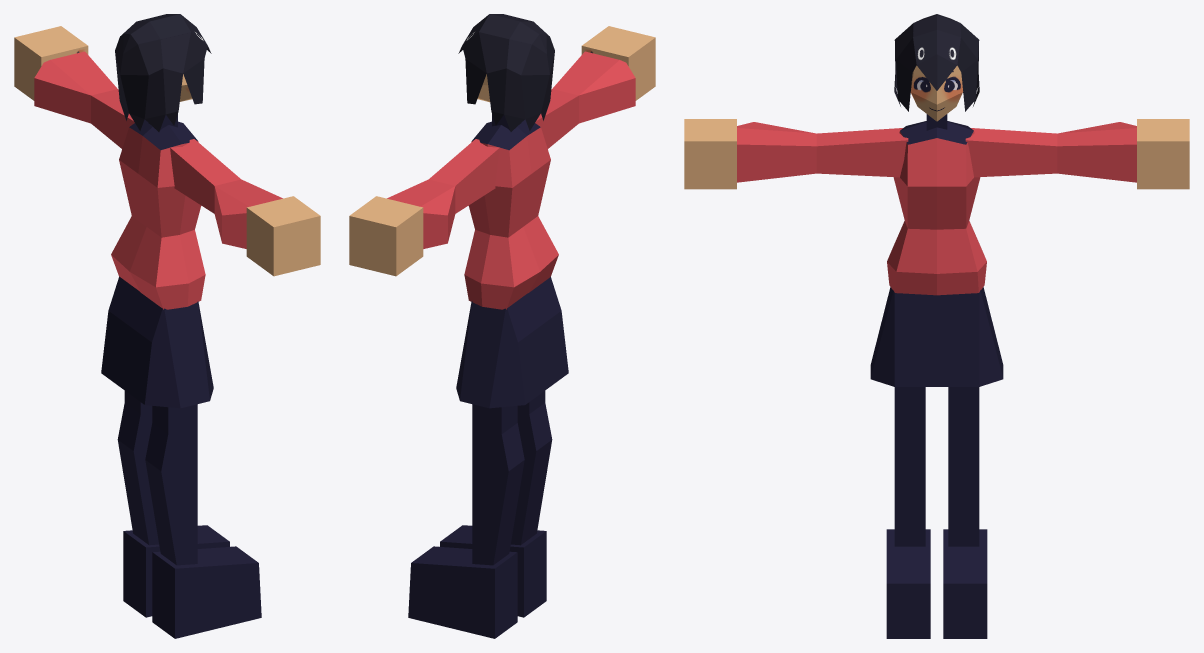
The model's file is firstmodel.glb.
3 renders of one model, left to right at view 1: azimuth 30°, elevation 25°; view 2: azimuth 150°, elevation 25°; view 3: azimuth 270°, elevation 25°, orthographic. The views are drawn at different scales.
Parts seen in each view (by area): view 1: bod2, arm, hair; view 2: bod2, arm, hair; view 3: bod2, arm, hair.
Boxes of the visible parts, x1=… form: bod2: x1=101, y1=74, x2=261, y2=638; arm: x1=14, y1=26, x2=320, y2=276; hair: x1=115, y1=14, x2=211, y2=131; bod2: x1=408, y1=74, x2=568, y2=638; arm: x1=349, y1=26, x2=655, y2=276; hair: x1=458, y1=14, x2=554, y2=131; bod2: x1=870, y1=65, x2=1003, y2=638; arm: x1=684, y1=119, x2=1189, y2=189; hair: x1=894, y1=14, x2=979, y2=111.
Size of the model in its own units: 0.4143 by 2.05 by 1.61.
Materials: 4 (2 with a texture image).
